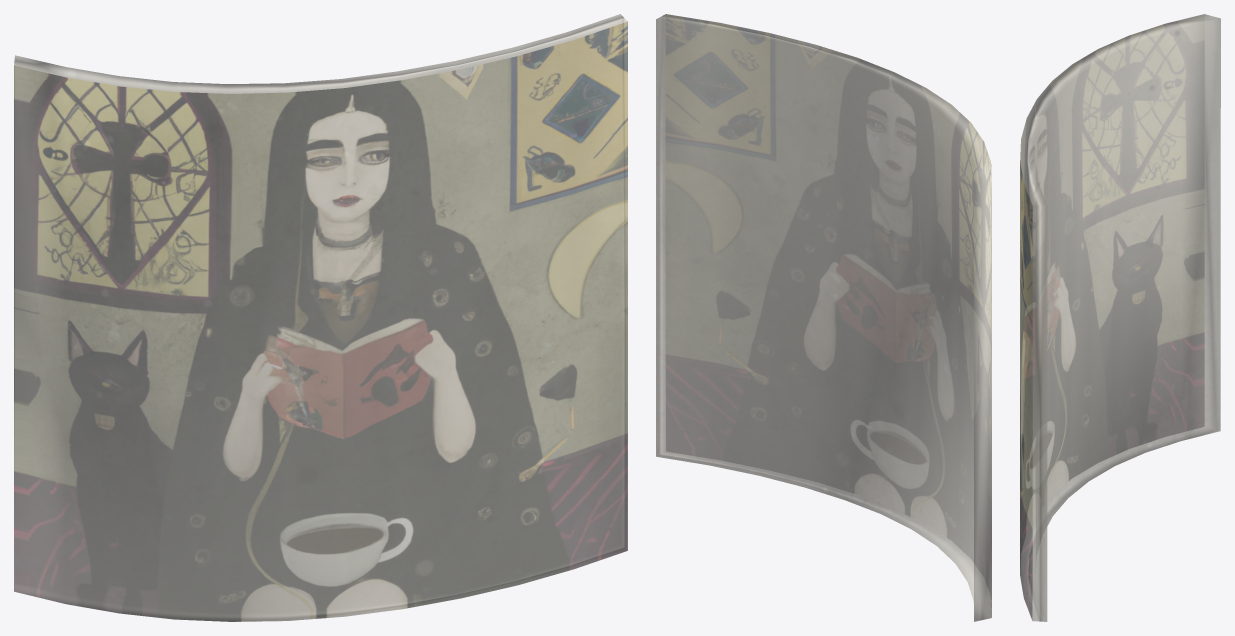
File: right-middle-mirror-transformed.glb
The picture shows the model from 3 angles, left to right: view 1: azimuth 30°, elevation 25°; view 2: azimuth 150°, elevation 25°; view 3: azimuth 270°, elevation 25°; orthographic projection. The views are drawn at different scales.
Parts seen in each view (by area): view 1: Cube.002; view 2: Cube.002; view 3: Cube.002.
Boxes of the visible parts, bbox=[...] form: Cube.002: bbox=[14, 14, 627, 621]; Cube.002: bbox=[656, 14, 991, 621]; Cube.002: bbox=[1020, 14, 1220, 621].
Bounding box in the file's own units: 5.92 × 5.92 × 2.59.
2 materials, 2 textured.
